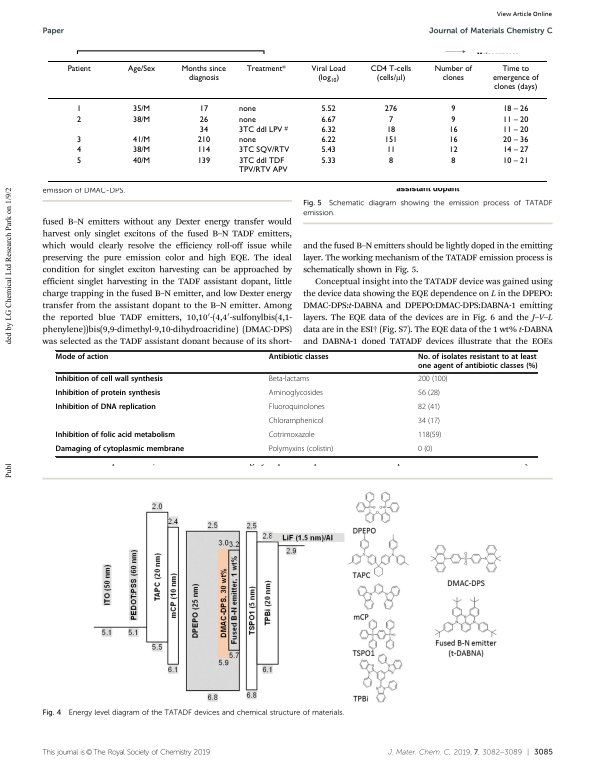borderless: (47, 59, 547, 181), (54, 349, 537, 456)
cell: (417, 353, 538, 371), (491, 63, 539, 92), (55, 445, 185, 455), (55, 431, 176, 441), (55, 375, 164, 385), (55, 389, 161, 399), (55, 403, 157, 413), (238, 155, 288, 174), (369, 62, 412, 84), (180, 63, 226, 82), (310, 63, 346, 84), (433, 63, 472, 82), (268, 445, 334, 455), (268, 403, 326, 413), (268, 389, 324, 399), (268, 417, 324, 427), (268, 353, 330, 362), (238, 145, 290, 155), (238, 124, 288, 134), (55, 353, 109, 362), (268, 431, 315, 441), (268, 375, 310, 385), (245, 63, 286, 73), (417, 375, 448, 385), (126, 63, 156, 73), (502, 104, 529, 114), (502, 114, 529, 124), (502, 135, 529, 145), (502, 145, 529, 155), (502, 155, 529, 165), (417, 431, 442, 441), (66, 63, 91, 73), (502, 125, 529, 134), (417, 389, 441, 399), (417, 403, 441, 413), (417, 417, 441, 427), (132, 104, 151, 114), (132, 114, 151, 124), (132, 135, 151, 145), (132, 145, 151, 155), (132, 155, 151, 165), (238, 104, 256, 114), (238, 114, 256, 124), (238, 135, 256, 145), (417, 445, 433, 455), (320, 104, 336, 114), (320, 114, 336, 124), (320, 135, 336, 145), (320, 145, 336, 155), (320, 155, 336, 165), (383, 104, 398, 114), (196, 135, 211, 145), (383, 135, 398, 145), (196, 145, 211, 155), (196, 155, 211, 165), (320, 125, 336, 134), (198, 104, 209, 114), (198, 114, 209, 124), (385, 145, 396, 155), (448, 135, 458, 145), (448, 145, 458, 155), (198, 125, 209, 134), (385, 125, 396, 134), (448, 125, 458, 134), (387, 114, 394, 124), (387, 155, 394, 165), (76, 104, 82, 114), (450, 104, 456, 114), (76, 114, 82, 124), (450, 114, 456, 124), (76, 135, 82, 145), (76, 145, 82, 155), (76, 155, 82, 165), (450, 155, 456, 165)
